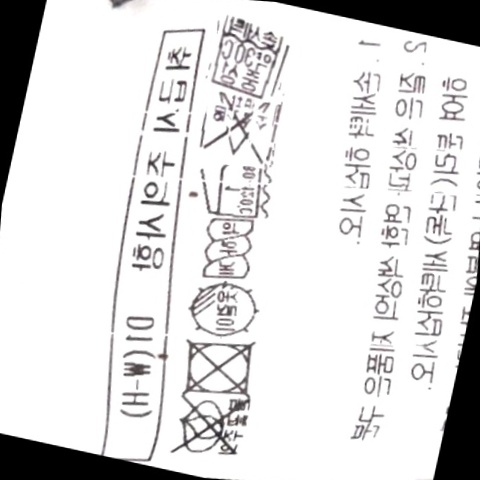DN_tumble_dry: (172, 326, 269, 408)
hand_wash: (202, 14, 295, 101)
iron_low: (194, 153, 274, 227)
line_dry_in_shade: (178, 273, 269, 345)
wring: (195, 211, 264, 289)
